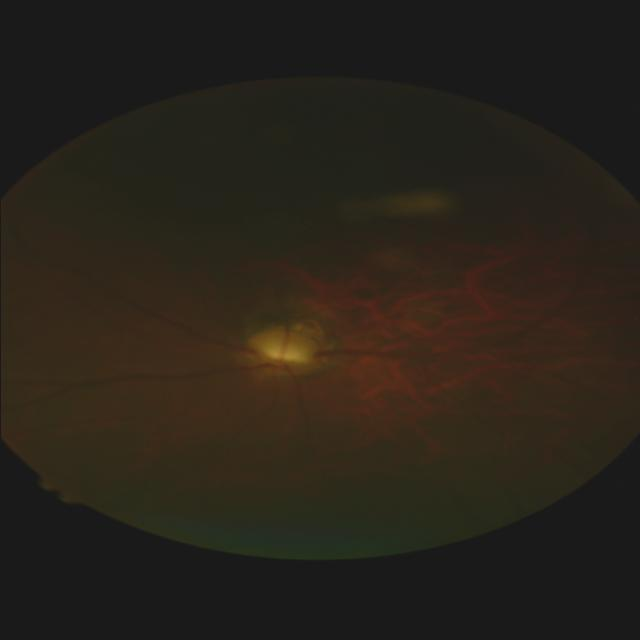cup: (250, 335, 312, 362)
disk: (242, 330, 316, 379)
